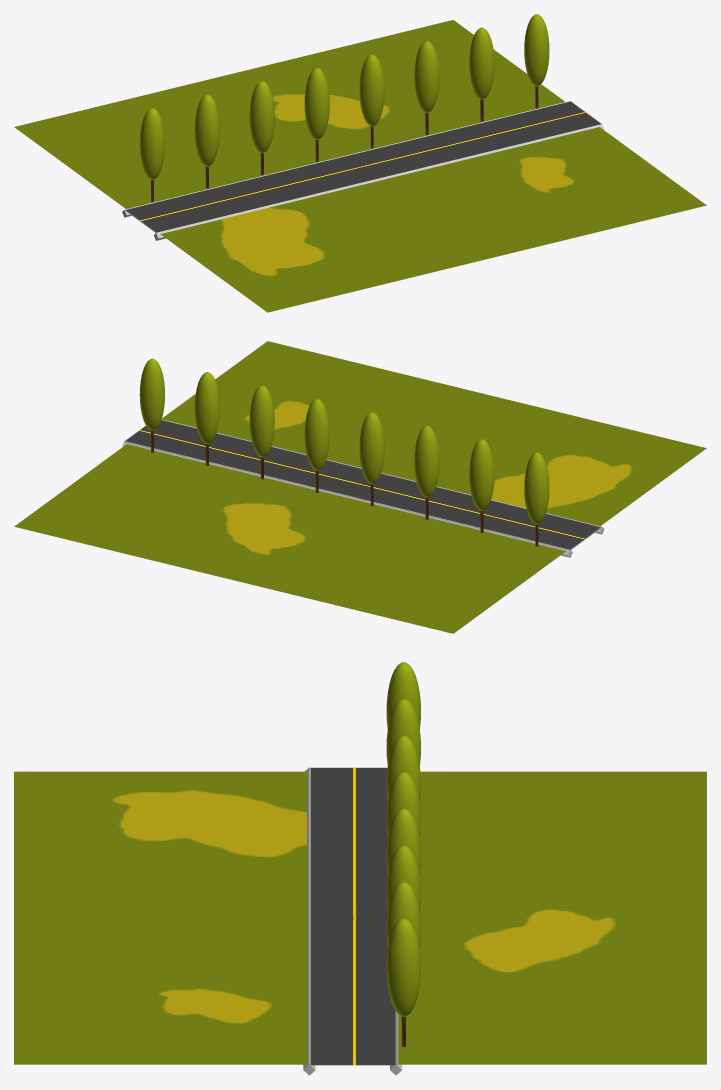
File: Alley.obj
3 views of the same model, one above another, from view 1: azimuth 30°, elevation 25°; view 2: azimuth 150°, elevation 25°; view 3: azimuth 270°, elevation 25° (orthographic). The views are drawn at different scales.
Parts seen in each view (by area): view 1: Plane, Plane.001, Sphere.006_Sphere, Sphere.001_Sphere, Sphere, Sphere.005_Sphere, Sphere.002_Sphere, Sphere.003_Sphere, Sphere.004_Sphere, Sphere.007_Sphere, Cube.001_Cube.000, Cube_Cube.001; view 2: Plane, Plane.001, Sphere.003_Sphere, Sphere.001_Sphere, Sphere.004_Sphere, Sphere, Sphere.007_Sphere, Sphere.002_Sphere, Sphere.006_Sphere, Sphere.005_Sphere, Cube_Cube.001, Cube.001_Cube.000; view 3: Plane, Plane.001, Sphere.006_Sphere, Sphere.001_Sphere, Sphere, Sphere.007_Sphere, Cube.001_Cube.000, Sphere.002_Sphere, Sphere.005_Sphere, Sphere.004_Sphere, Sphere.003_Sphere.
Part boxes in pixels (x1,y1,x2,y2): Plane: (14,20,706,312); Plane.001: (125,101,601,232); Sphere.006_Sphere: (524,14,549,86); Sphere.001_Sphere: (359,54,384,126); Sphere: (304,68,329,139); Sphere.005_Sphere: (469,27,494,99); Sphere.002_Sphere: (414,41,439,112); Sphere.003_Sphere: (249,81,274,153); Sphere.004_Sphere: (194,94,219,166); Sphere.007_Sphere: (139,108,164,179); Cube.001_Cube.000: (154,124,604,240); Cube_Cube.001: (122,100,570,217); Plane: (14,341,706,633); Plane.001: (124,420,601,550); Sphere.003_Sphere: (414,425,439,497); Sphere.001_Sphere: (304,399,329,470); Sphere.004_Sphere: (469,439,494,510); Sphere: (359,412,384,484); Sphere.007_Sphere: (524,452,549,524); Sphere.002_Sphere: (249,385,274,457); Sphere.006_Sphere: (139,358,164,430); Sphere.005_Sphere: (194,372,219,443); Cube_Cube.001: (122,441,572,557); Cube.001_Cube.000: (161,419,604,534); Plane: (14,771,706,1064); Plane.001: (310,767,397,1065); Sphere.006_Sphere: (386,918,420,1016); Sphere.001_Sphere: (386,808,420,875); Sphere: (386,772,420,838); Sphere.007_Sphere: (386,662,420,729); Cube.001_Cube.000: (303,767,315,1075); Sphere.002_Sphere: (386,845,420,912); Sphere.005_Sphere: (386,882,420,948); Sphere.004_Sphere: (386,699,420,765); Sphere.003_Sphere: (386,735,420,802).
Size of the model in its own units: 16.25 by 3.47 by 16.
